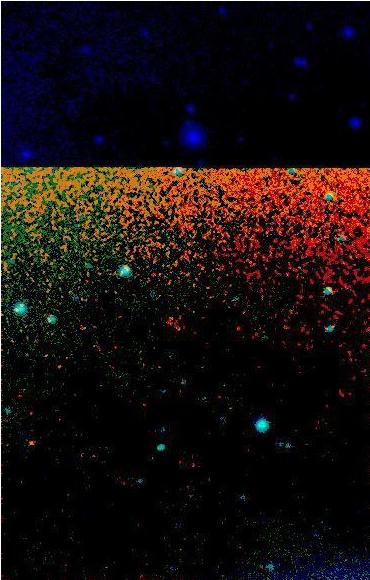star: (15, 425, 45, 455)
